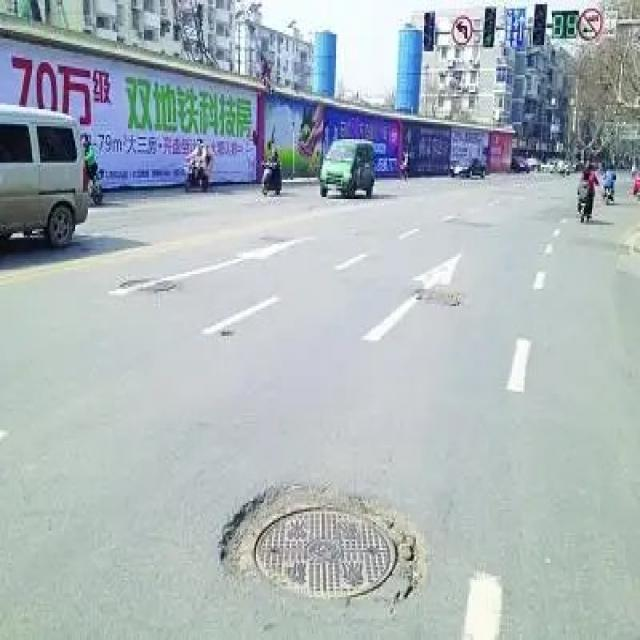Pothole: (216, 482, 430, 604), (413, 280, 461, 310), (119, 278, 180, 294)
